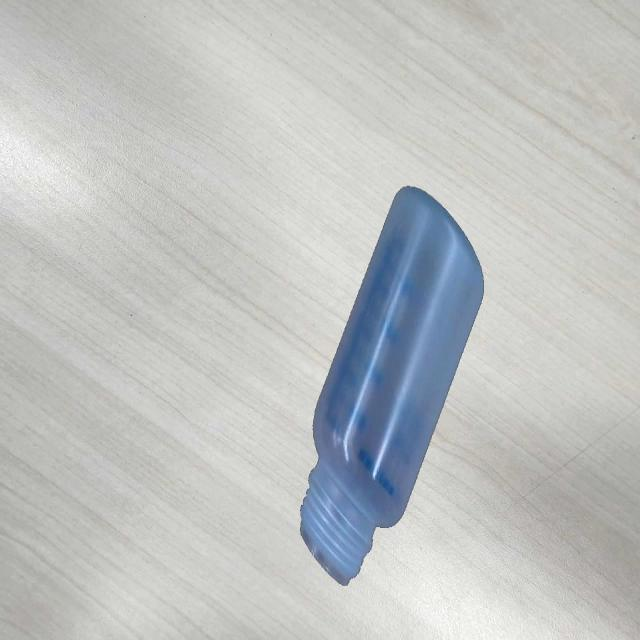bottle: (298, 180, 484, 588)
